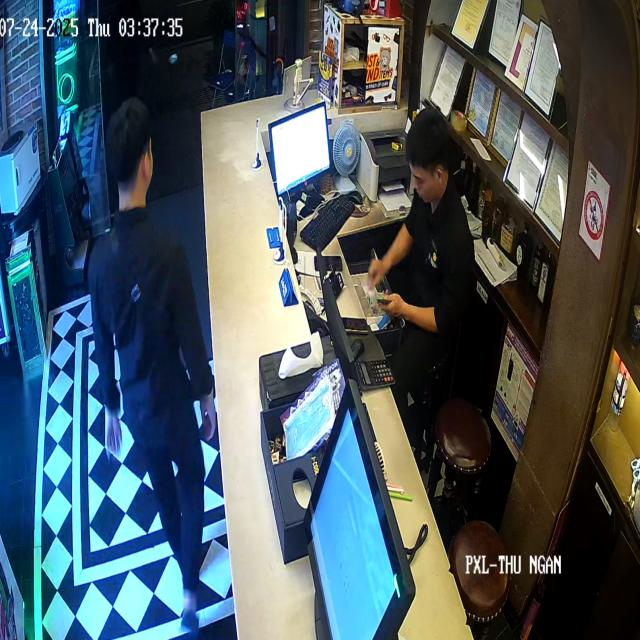khach: (84, 68, 220, 624)
nhan vien: (366, 74, 486, 414)
